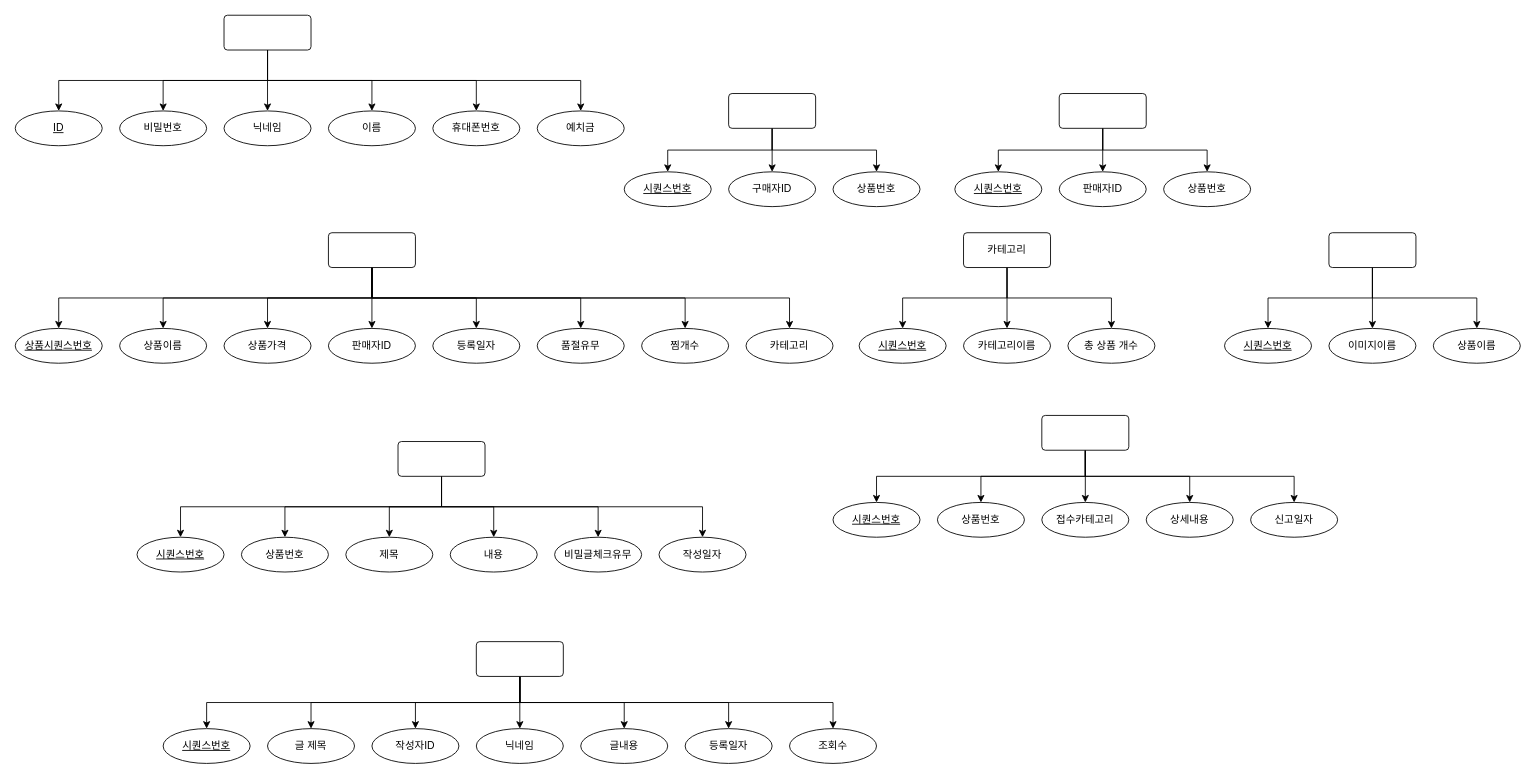
This 1536x779 diagram has some shape labels left out. Here are the shapes that lost their labels. From the top down, the centre of each, then its label:
pixel 267 32: 회원정보
pixel 772 110: 구매내역정보
pixel 1102 110: 판매내역정보
pixel 371 250: 상품정보
pixel 1372 250: 상품이미지
pixel 1085 432: 신고접수
pixel 441 458: 상품문의
pixel 519 658: 소통게시판
